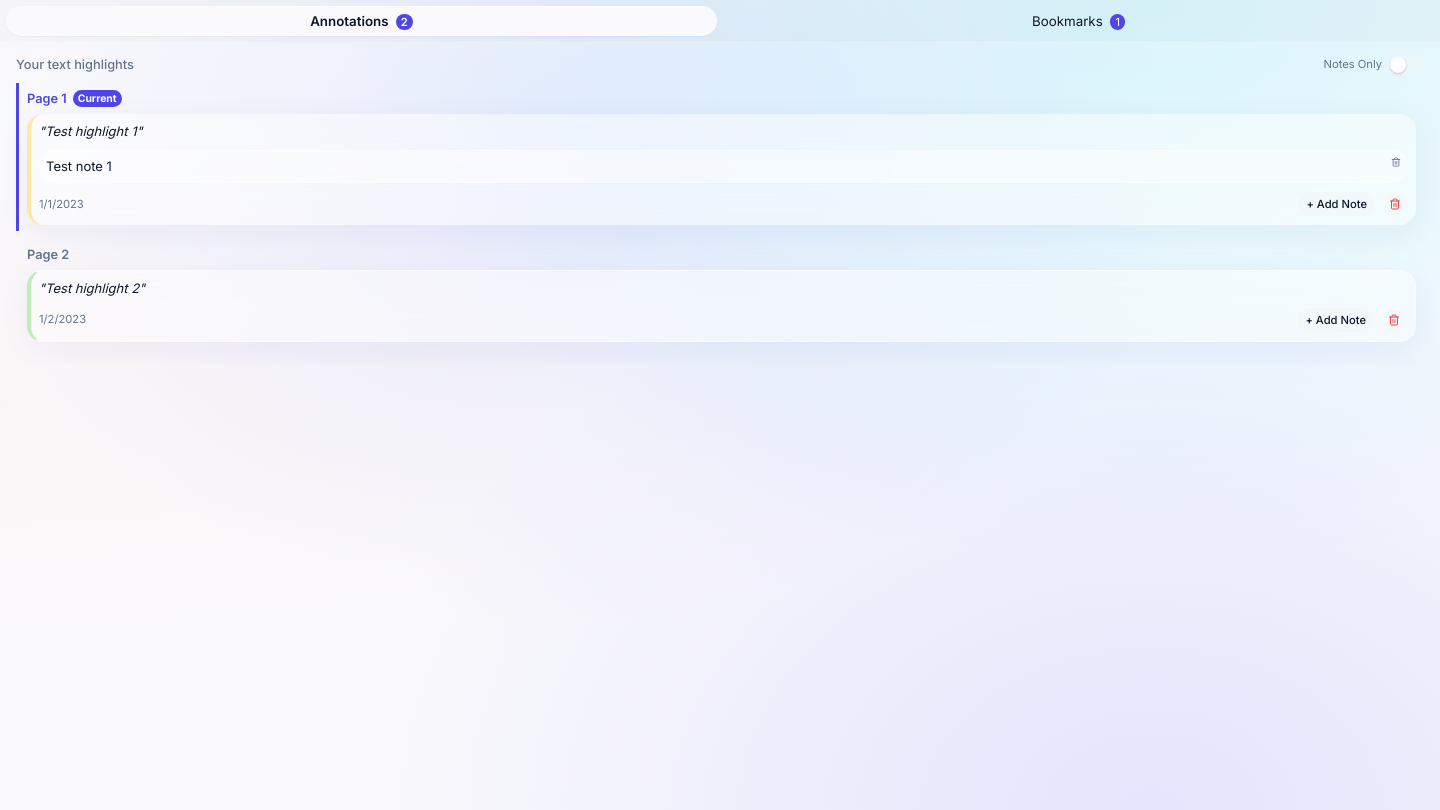
NoteSidebar component › shows all highlights by default, and filters out empty ones when Notes Only is active
This screenshot has width=1440, height=810.
Expected: the text "\"Test highlight 1\"" is shown, 39,123 -> 142,139
Expected: the text "\"Test highlight 2\"" is shown, 39,280 -> 145,296
// Toggle Notes Only to true
Click the checkbox labelled "Notes Only".
click(1374, 65)  # box 1324,55 -> 1424,75
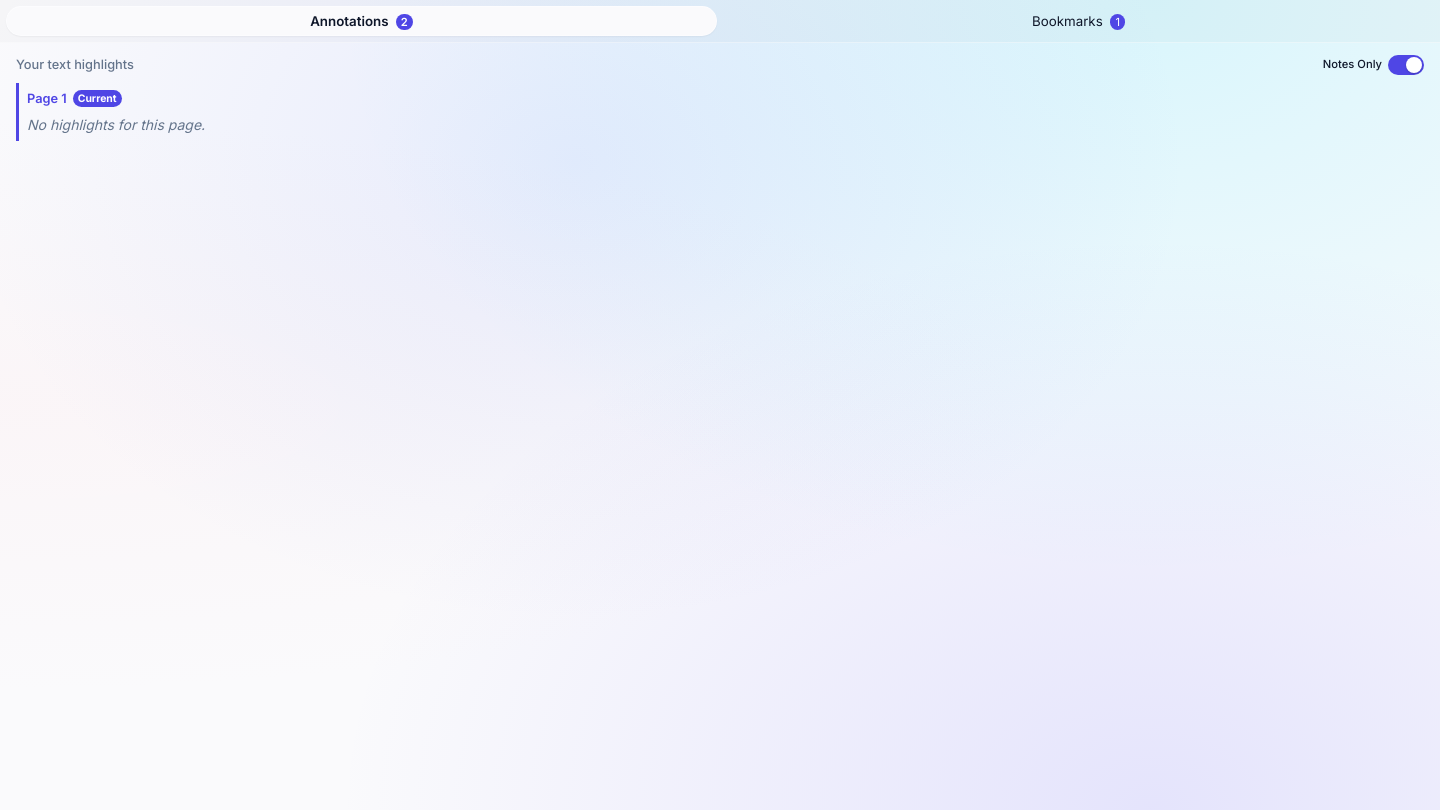
Result: the text "Test highlight 2" is gone
